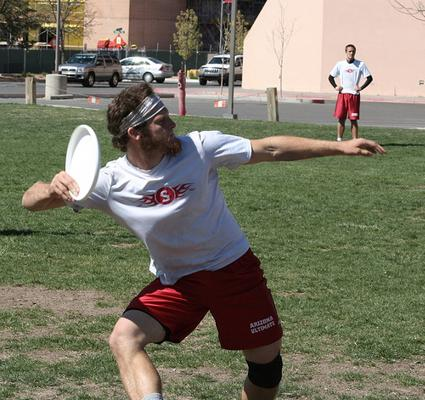person: (22, 83, 388, 400)
